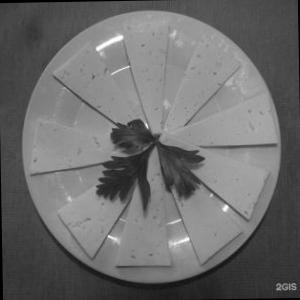cheese: (22, 11, 280, 282)
